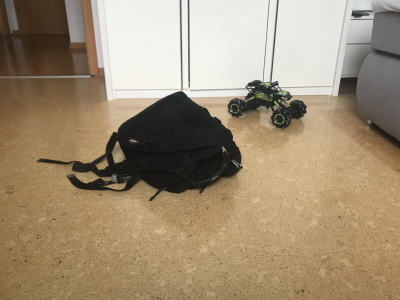remote control car: (227, 79, 310, 129)
